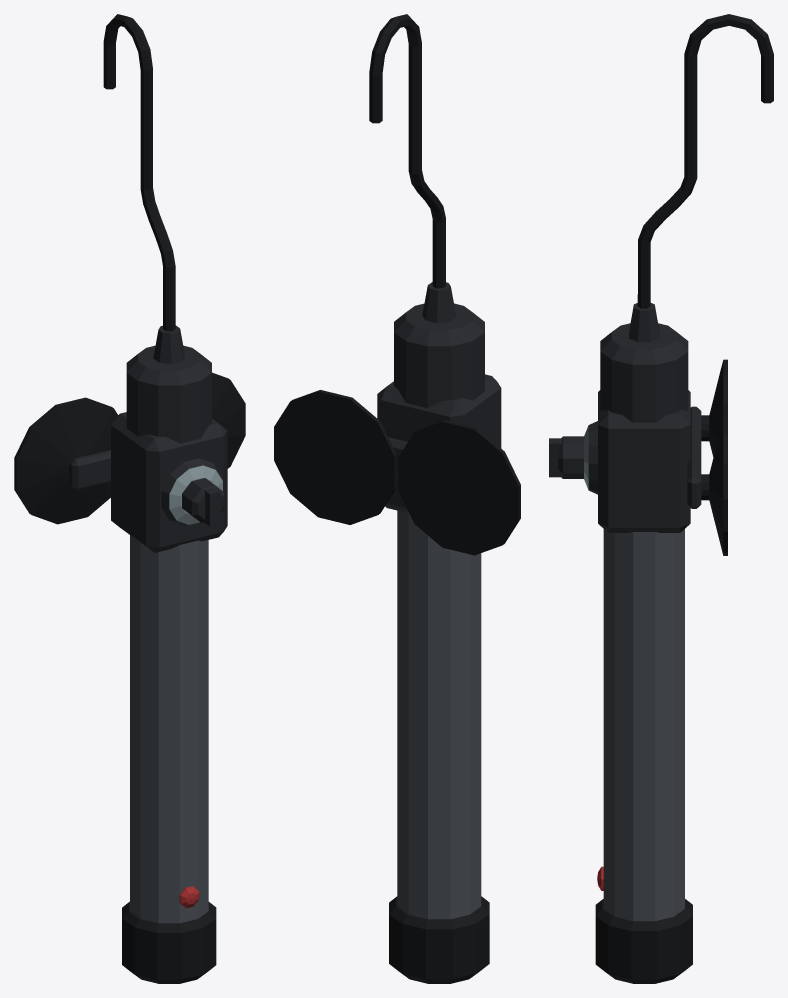
Rendered from aquarium-heater-d58214.glb.
The picture shows the model from 3 angles, left to right: view 1: azimuth 30°, elevation 25°; view 2: azimuth 150°, elevation 25°; view 3: azimuth 270°, elevation 25°; orthographic projection. The views are drawn at different scales.
Parts seen in each view (by area): view 1: heater, head, dial-knob; view 2: heater, head; view 3: heater, head, dial-knob.
Boxes of the visible parts, x1,y1,x2,y2 form: heater: [103, 14, 216, 983]; head: [14, 325, 245, 552]; dial-knob: [182, 478, 224, 526]; heater: [369, 14, 489, 983]; head: [274, 282, 520, 555]; heater: [595, 14, 773, 983]; head: [584, 303, 727, 555]; dial-knob: [549, 436, 583, 478].
Size of the model in its own units: 0.118 by 0.4528 by 0.0968.
